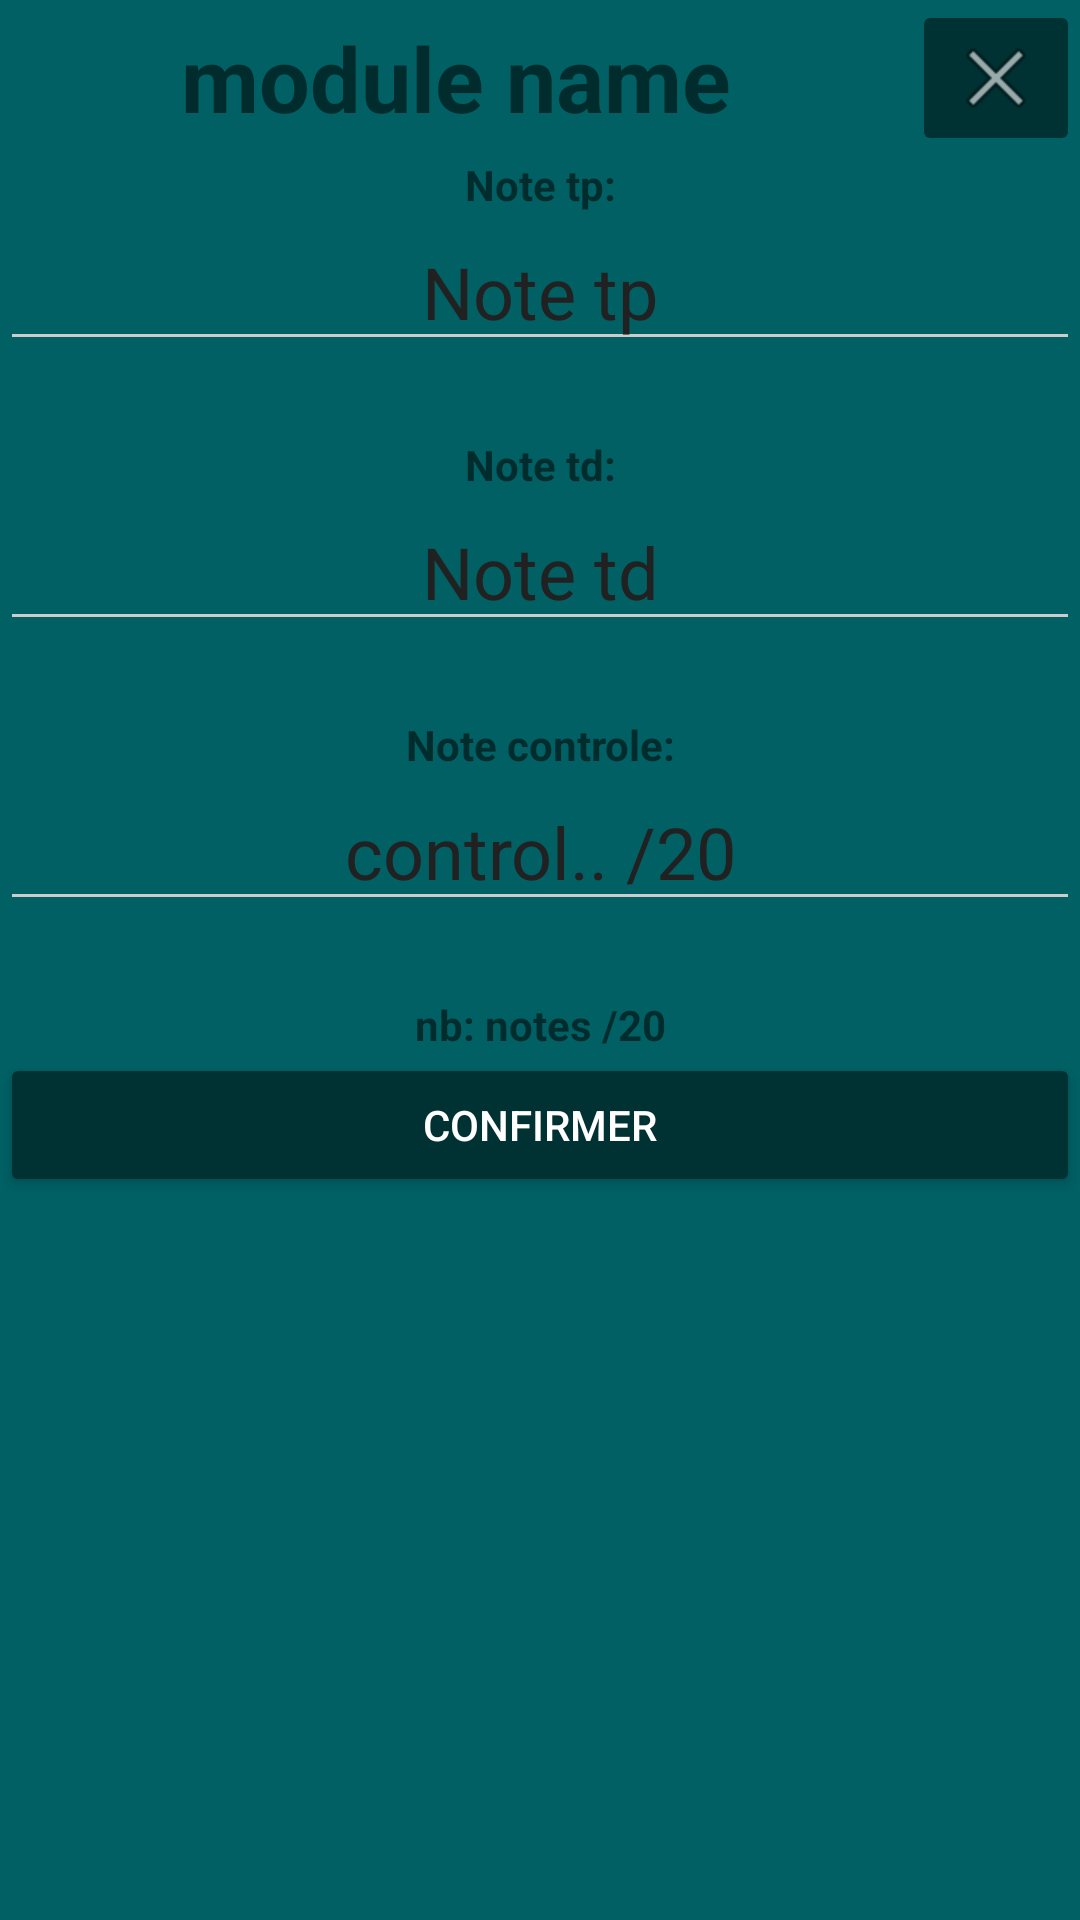

Where icons sit on this 1080 × 1920 app screen, as (x1, y1, x2, y2):
close clear cancel: (924, 18, 1068, 138)
